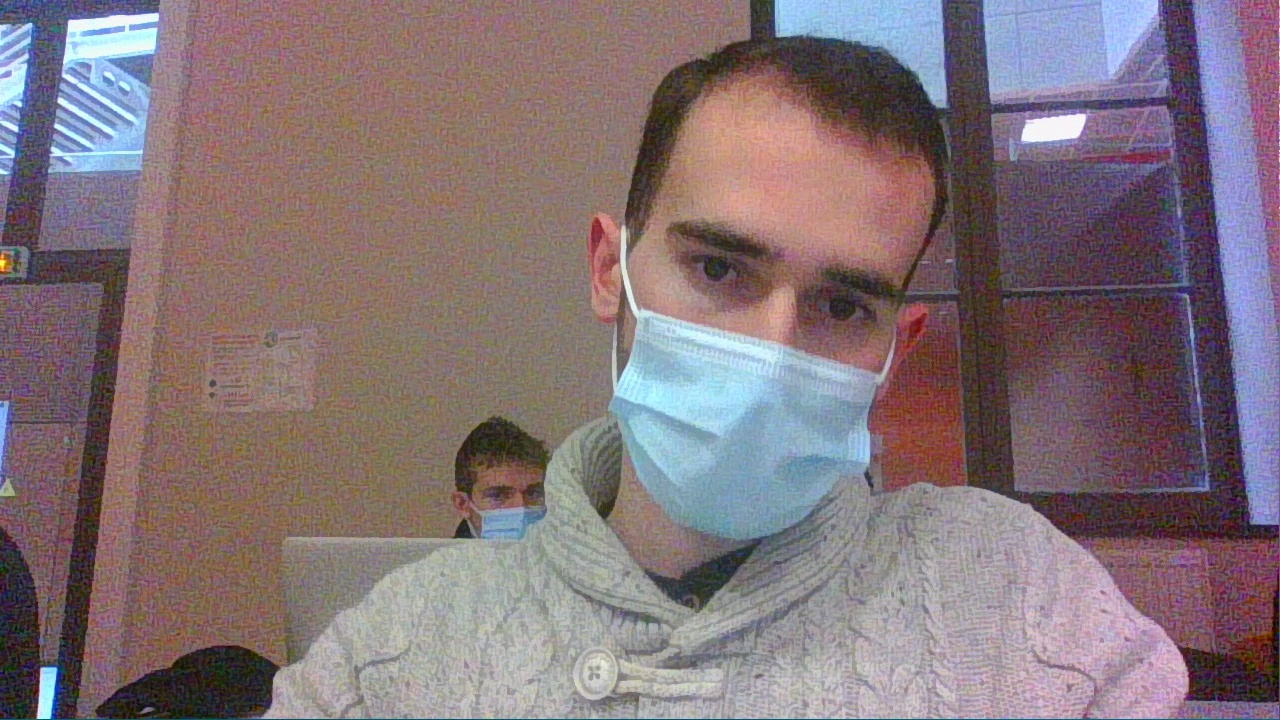mask: (571, 34, 921, 528), (452, 416, 541, 534)
